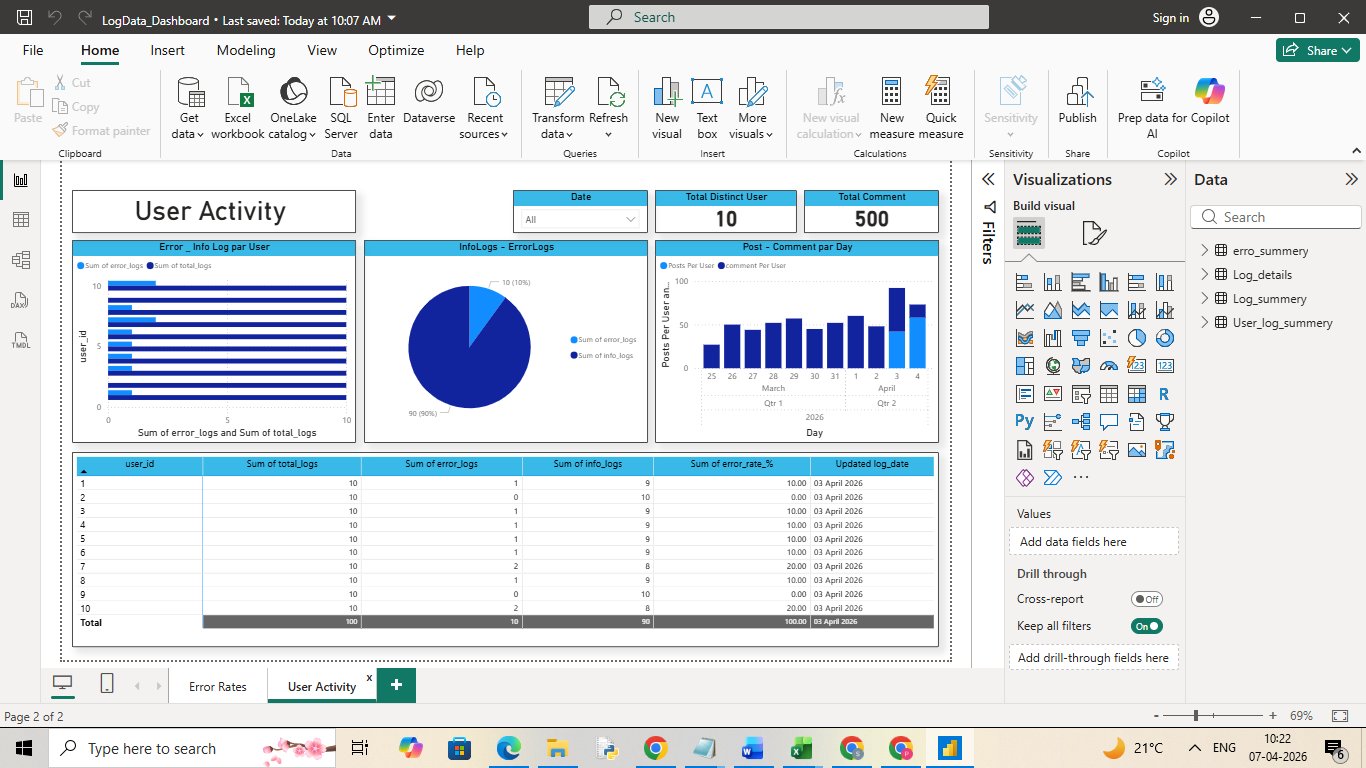

This screenshot's page, from the dashboard's own definition file:
{"tool":"powerbi","page":{"name":"User Activity","canvas":[1280,720],"ordinal":1},"visuals":[{"type":"pivotTable","fields":{"Rows":["User_log_summery.user_id"],"Values":["Sum(User_log_summery.total_logs)","Sum(User_log_summery.error_logs)","Sum(User_log_summery.info_logs)","Sum(User_log_summery.error_rate_%)","Min(Log_details.log_date)"]},"box":[14.4,420.5,1248.5,280.8],"z":0},{"type":"pieChart","title":"InfoLogs - ErrorLogs","fields":{"Y":["Sum(User_log_summery.error_logs)","Sum(User_log_summery.info_logs)"]},"box":[434.9,115.2,409,292.3],"z":1000},{"type":"columnChart","title":"Post - Comment par Day","fields":{"Category":["Log_summery.log_date.Variation.Date Hierarchy.Year","Log_summery.log_date.Variation.Date Hierarchy.Quarter","Log_summery.log_date.Variation.Date Hierarchy.Month","Log_summery.log_date.Variation.Date Hierarchy.Day"],"Y":["Log_details.Posts Per User","Log_details.comment Per User"]},"box":[853.9,115.2,409,292.3],"z":2000},{"type":"card","title":"Total Distinct User","fields":{"Values":["CountNonNull(User_log_summery.user_id)"]},"box":[853.9,43.2,204.5,61.9],"z":4000},{"type":"card","title":"Total Comment","fields":{"Values":["Log_details.comment Per User"]},"box":[1068.5,43.2,194.4,61.9],"z":5000},{"type":"slicer","title":"Date","fields":{"Values":["Log_summery.log_date"]},"box":[649.4,43.2,194.4,61.9],"z":6000},{"type":"clusteredBarChart","title":"Error _ Info Log par User","fields":{"Category":["User_log_summery.user_id"],"Y":["Sum(User_log_summery.error_logs)","Sum(User_log_summery.total_logs)"]},"box":[14.4,115.2,409,292.3],"z":7000},{"type":"textbox","box":[14.4,43.2,409,61.9],"z":7001}]}

Visuals, with their boxes on the page's 1280x720 design canvas (x1, y1, x2, y2). These are canvas units, not pixel positions in the 1366x768 screenshot, which may show the page scaled, cropped or inside an application window:
pivotTable - User_log_summery.user_id x Sum(User_log_summery.total_logs): [left=14, top=420, right=1263, bottom=701]
"InfoLogs - ErrorLogs" pieChart: [left=435, top=115, right=844, bottom=408]
"Post - Comment par Day" columnChart: [left=854, top=115, right=1263, bottom=408]
"Total Distinct User" card: [left=854, top=43, right=1058, bottom=105]
"Total Comment" card: [left=1068, top=43, right=1263, bottom=105]
"Date" slicer: [left=649, top=43, right=844, bottom=105]
"Error _ Info Log par User" clusteredBarChart: [left=14, top=115, right=423, bottom=408]
textbox: [left=14, top=43, right=423, bottom=105]
